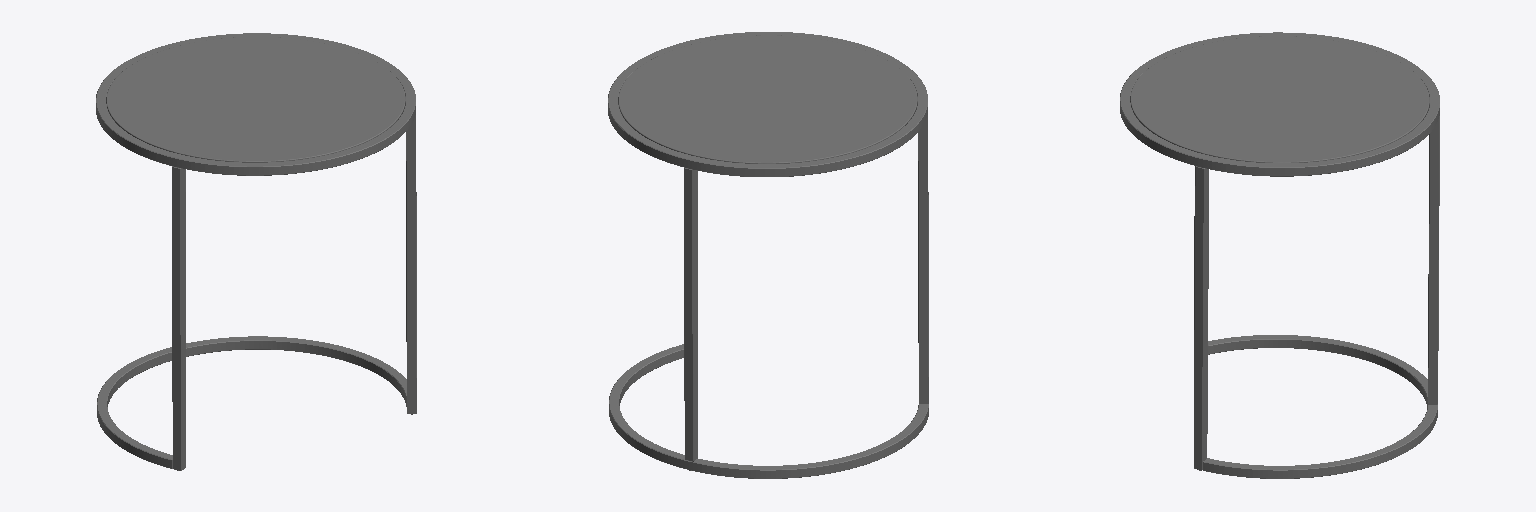
The model's file is mesa_redonda.obj.
3 renders of one model, left to right at view 1: azimuth 30°, elevation 25°; view 2: azimuth 150°, elevation 25°; view 3: azimuth 270°, elevation 25°, orthographic.
Parts seen in each view (by area): view 1: Staliuku_virsus, Staliuku_metalas; view 2: Staliuku_virsus, Staliuku_metalas; view 3: Staliuku_virsus, Staliuku_metalas.
Part boxes in pixels (x1,y1,x2,y2): Staliuku_virsus: (106,37,405,162); Staliuku_metalas: (96,33,416,470); Staliuku_virsus: (618,35,917,163); Staliuku_metalas: (608,32,928,478); Staliuku_virsus: (1130,36,1429,162); Staliuku_metalas: (1120,32,1439,478).
Size of the model in its own units: 12.25 by 13.31 by 12.25.